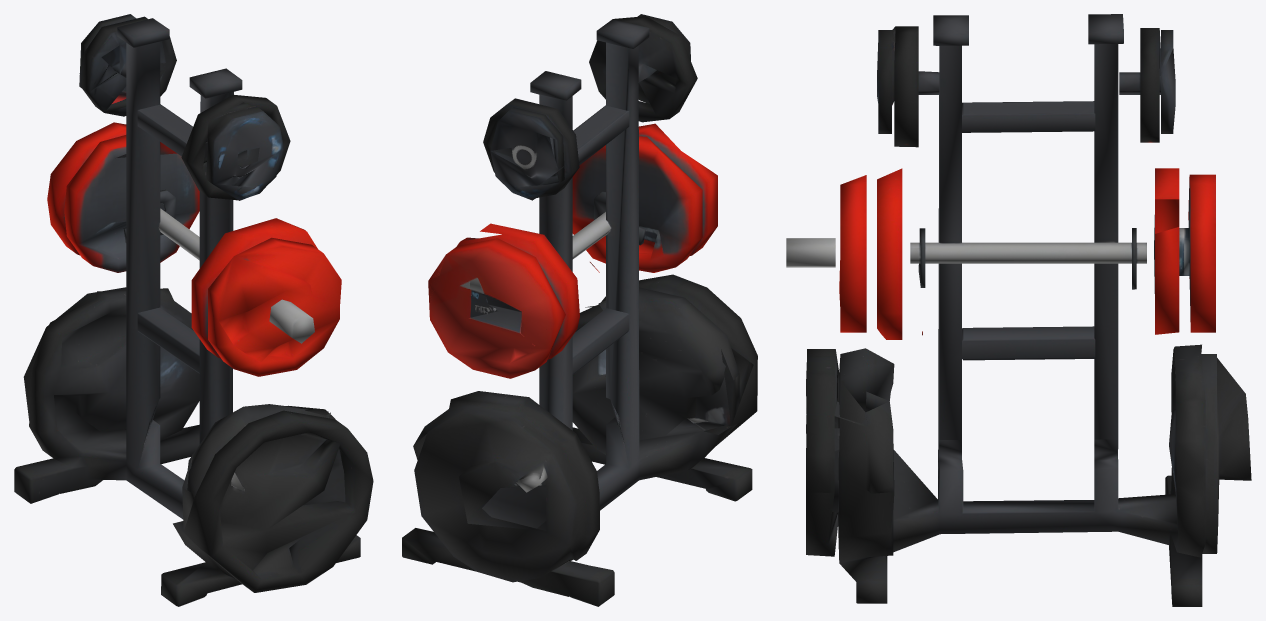
Rendered from gym_plate_rack.glb.
The picture shows the model from 3 angles, left to right: view 1: azimuth 30°, elevation 25°; view 2: azimuth 150°, elevation 25°; view 3: azimuth 270°, elevation 25°; orthographic projection. The views are drawn at different scales.
Visible parts, largest first — view 1: tripo_node_783c262a-8f8b-42e4-bac4-a6ea8b960e89; view 2: tripo_node_783c262a-8f8b-42e4-bac4-a6ea8b960e89; view 3: tripo_node_783c262a-8f8b-42e4-bac4-a6ea8b960e89.
Part boxes in pixels (x1,y1,x2,y2): tripo_node_783c262a-8f8b-42e4-bac4-a6ea8b960e89: (14, 14, 373, 606); tripo_node_783c262a-8f8b-42e4-bac4-a6ea8b960e89: (402, 14, 757, 606); tripo_node_783c262a-8f8b-42e4-bac4-a6ea8b960e89: (786, 14, 1251, 606).
Size of the model in its own units: 0.4305 by 1 by 0.7926.
Materials: 1 (1 with a texture image).
